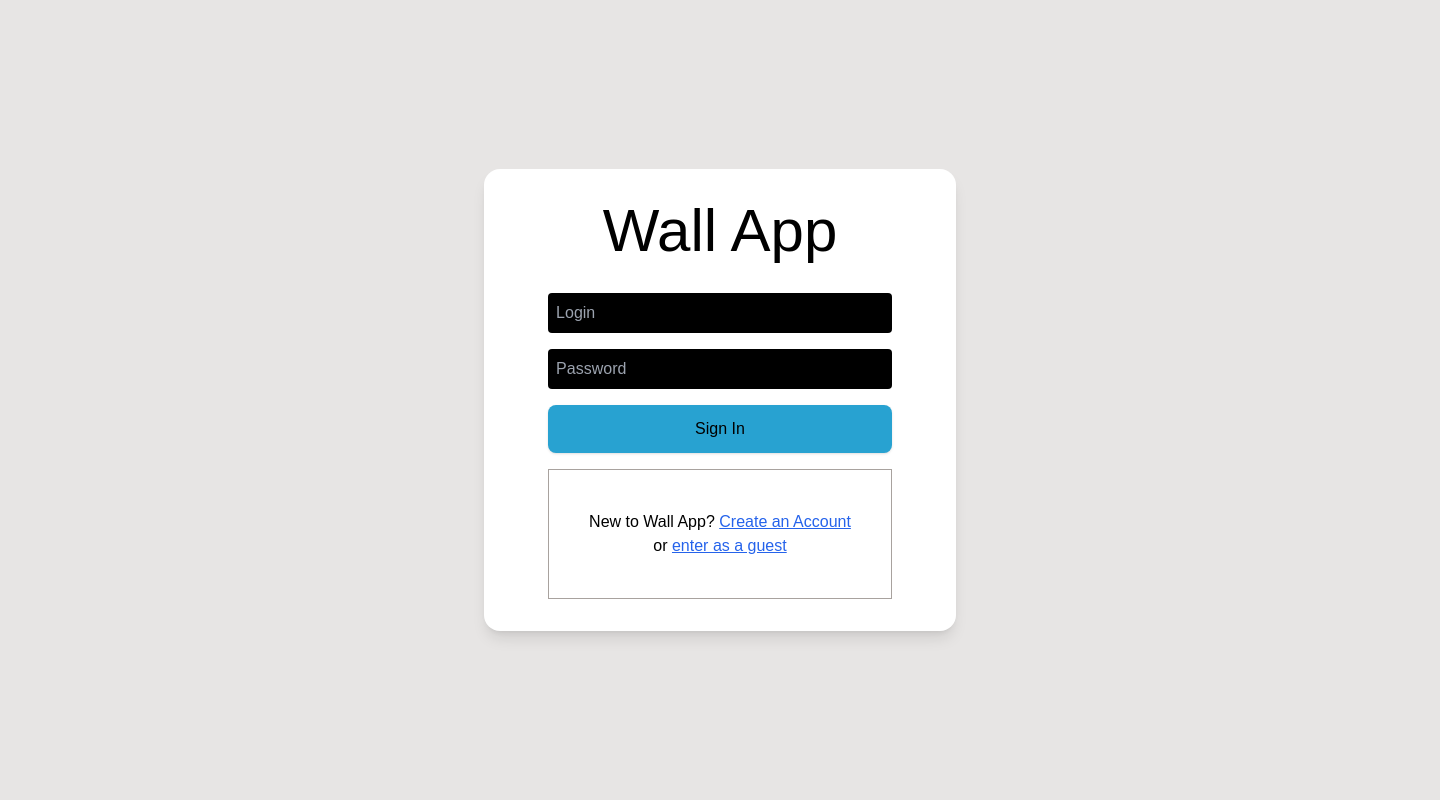
Test case: Wall page › Should be able to create a post if logged in
Type "gabs@test.com" into the field with test id "login-email".
click(720, 313); type("gabs@test.com")  # box [548,293,892,333]
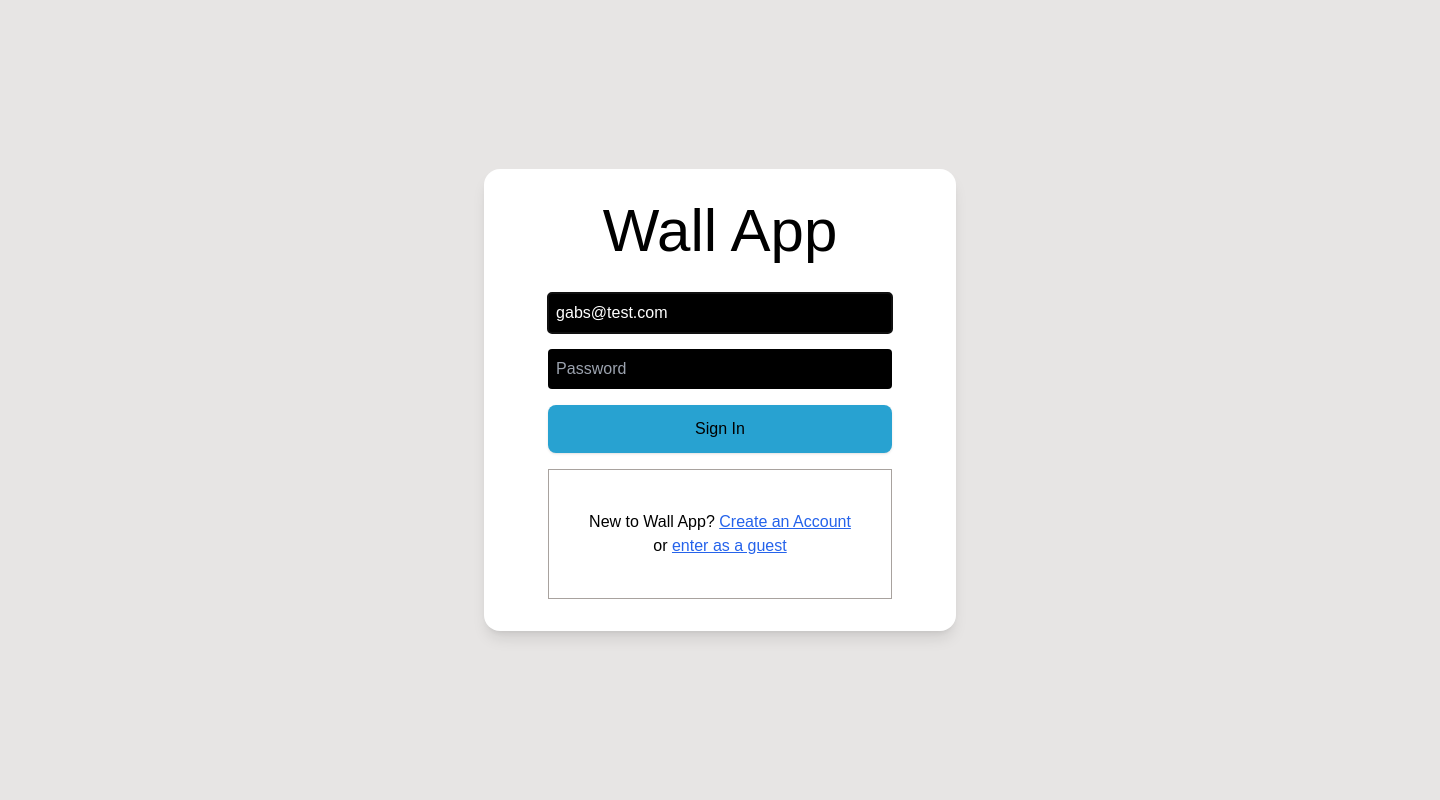
Type "12345678" into the password field with test id "login-password".
click(720, 369); type("12345678")  # box [548,349,892,389]
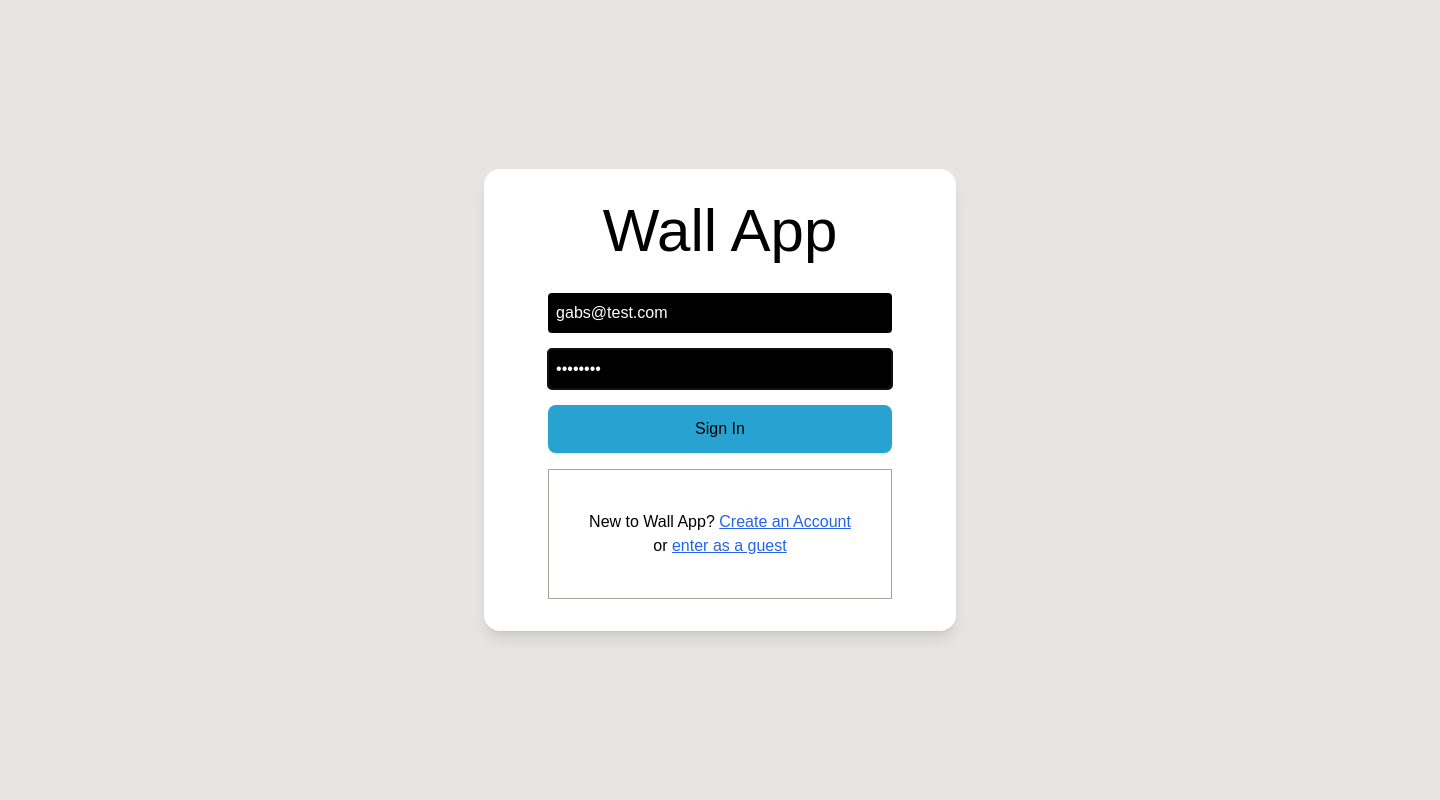
Click the button with test id "login-submit".
click(720, 429)  # box [548,405,892,453]
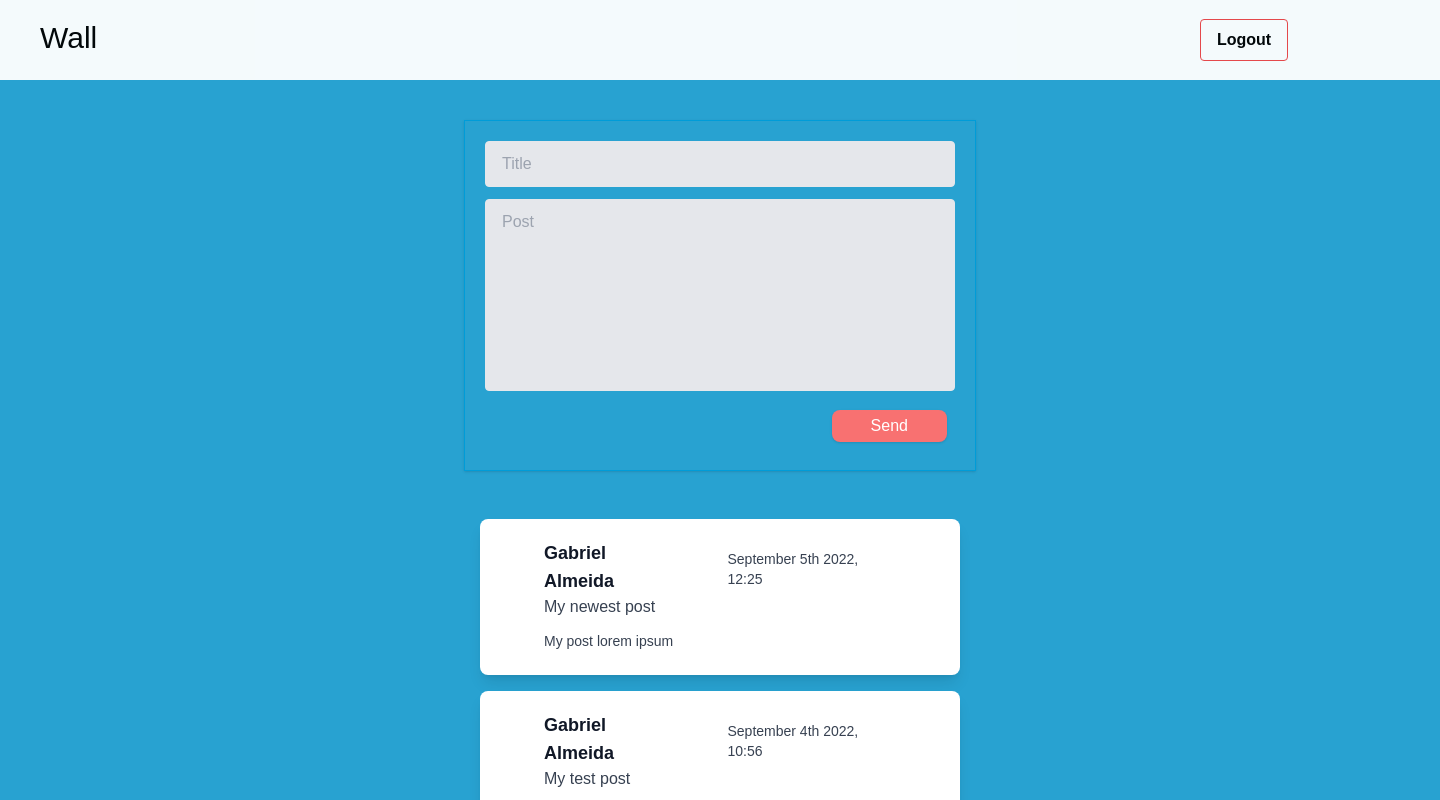
Type "Test title" into the field with test id "post-title".
click(720, 164); type("Test title")  # box [485,141,955,187]
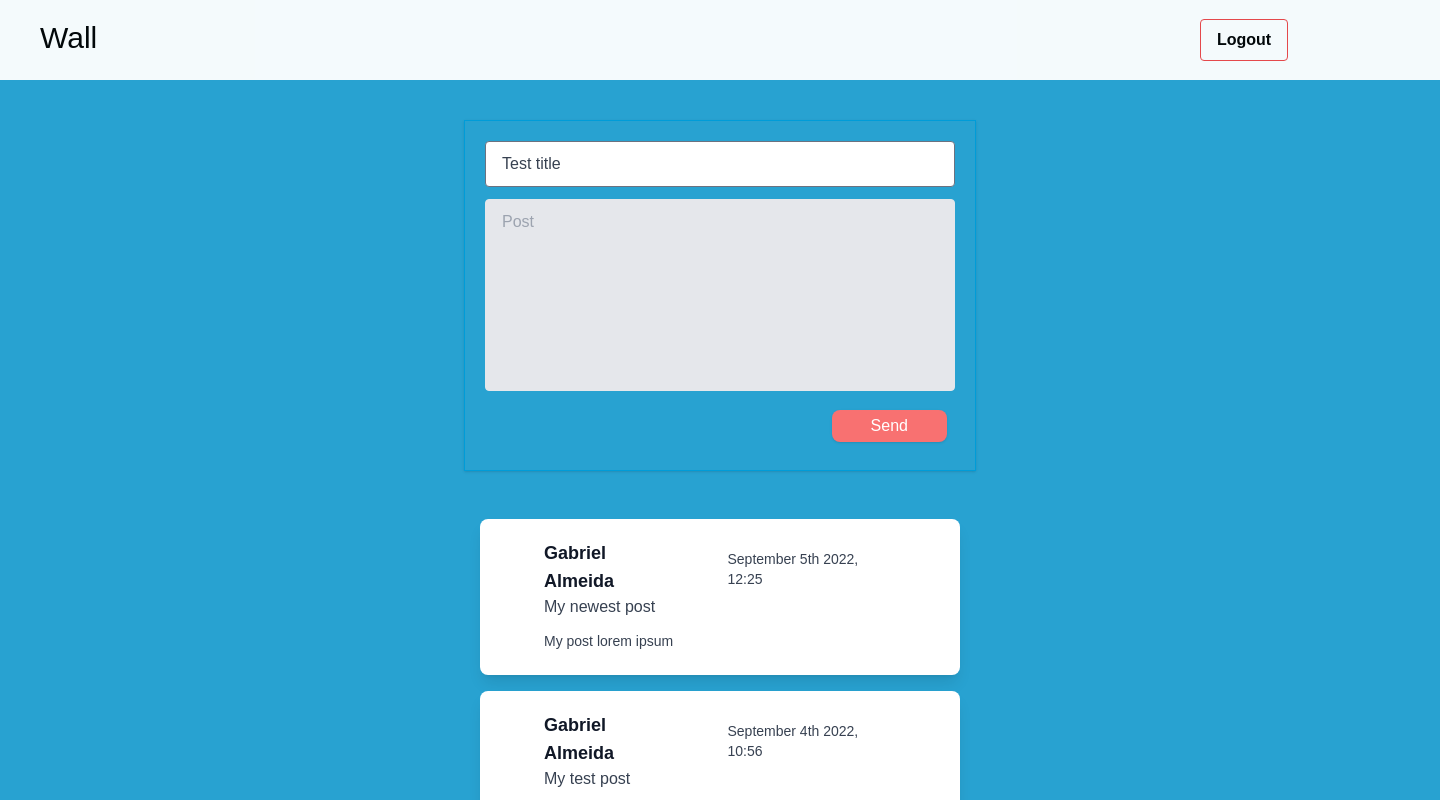
Type "Test message" into the text box with test id "post-message".
click(720, 295); type("Test message")  # box [485,199,955,391]
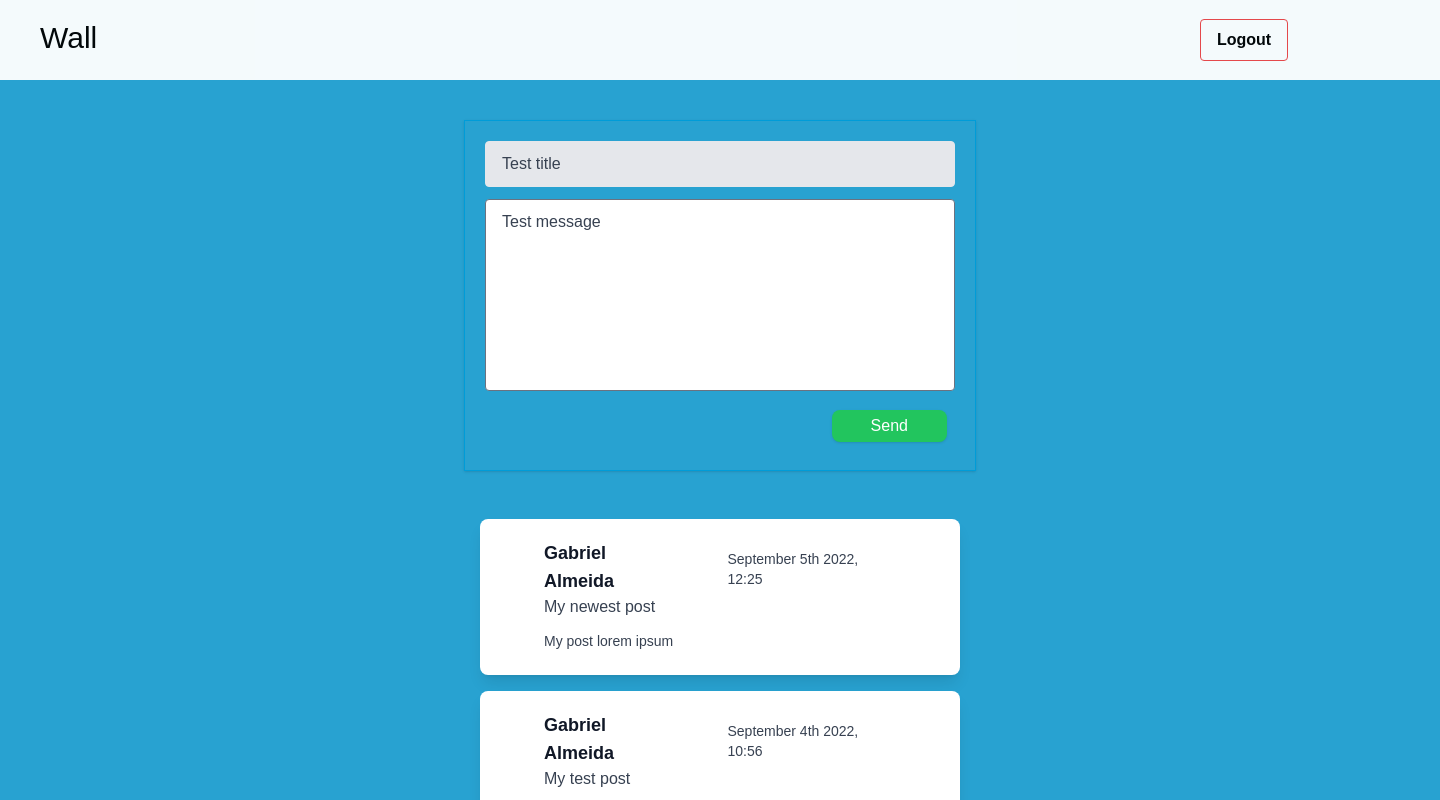
Result: the button with test id "post-submit" is enabled at [832,410,948,442]
